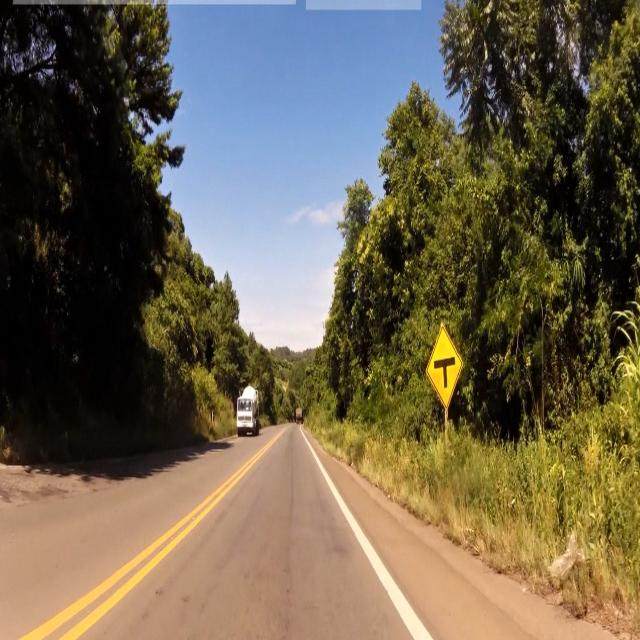A-8: (427, 324, 464, 412)
